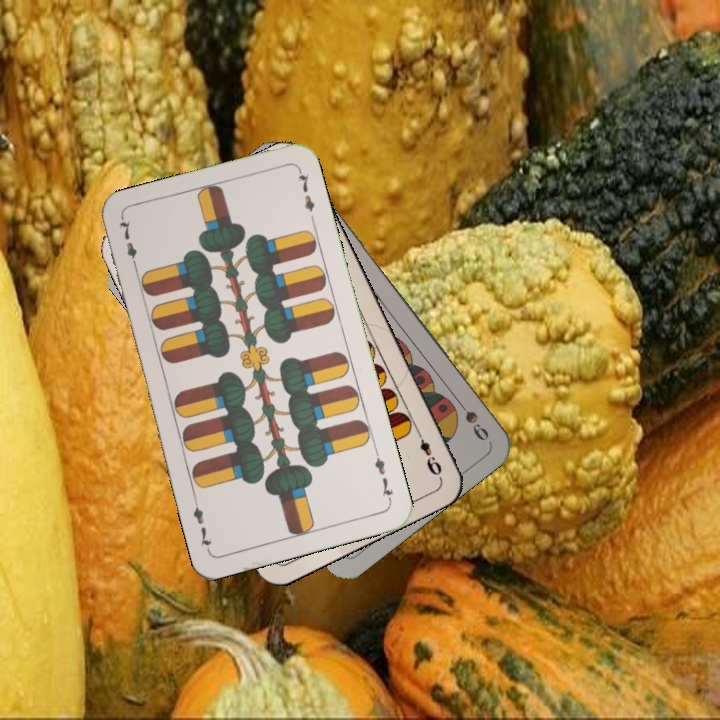E7: (370, 446, 396, 505), (116, 215, 141, 273)
E9: (412, 425, 445, 480)
S9: (450, 393, 492, 444)
